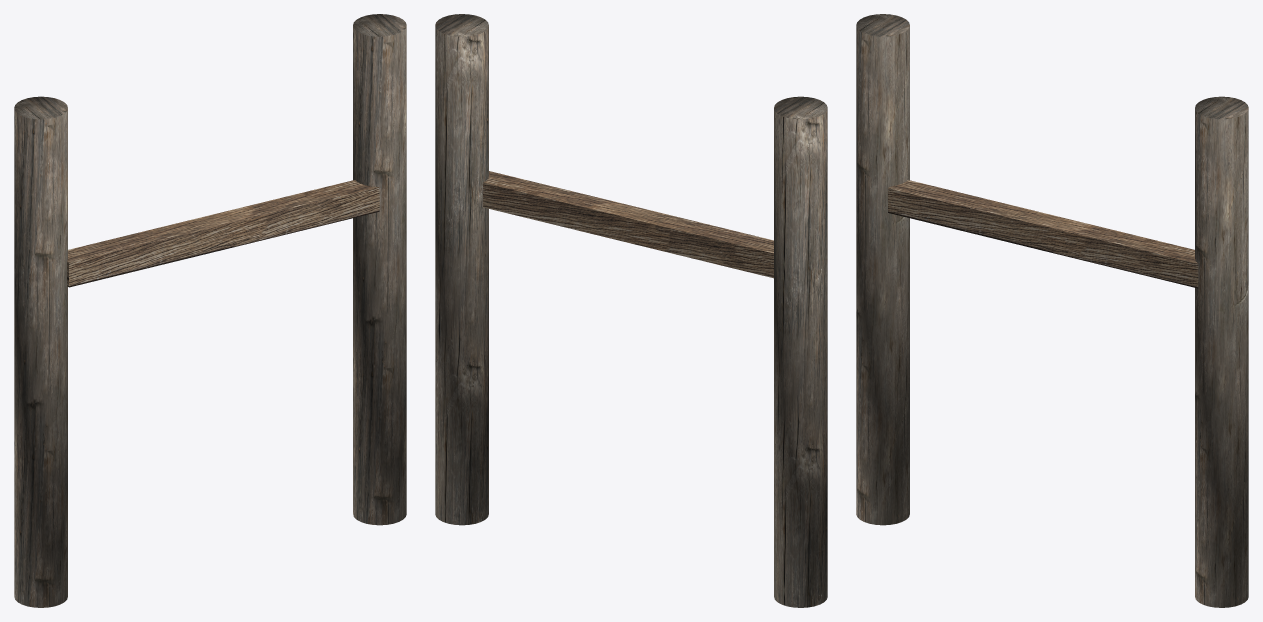
Rendered from MuelleH.fbx.
3 views of the same model, side by side, from view 1: azimuth 30°, elevation 25°; view 2: azimuth 150°, elevation 25°; view 3: azimuth 330°, elevation 25° (orthographic).
Visible parts, largest first — view 1: Cube.013; view 2: Cube.013; view 3: Cube.013.
Part boxes in pixels (x1,y1,x2,y2): Cube.013: [14, 14, 406, 607]; Cube.013: [435, 14, 827, 607]; Cube.013: [856, 14, 1248, 607].
Size of the model in its own units: 495 by 600 by 60.
2 materials, 2 textured.
